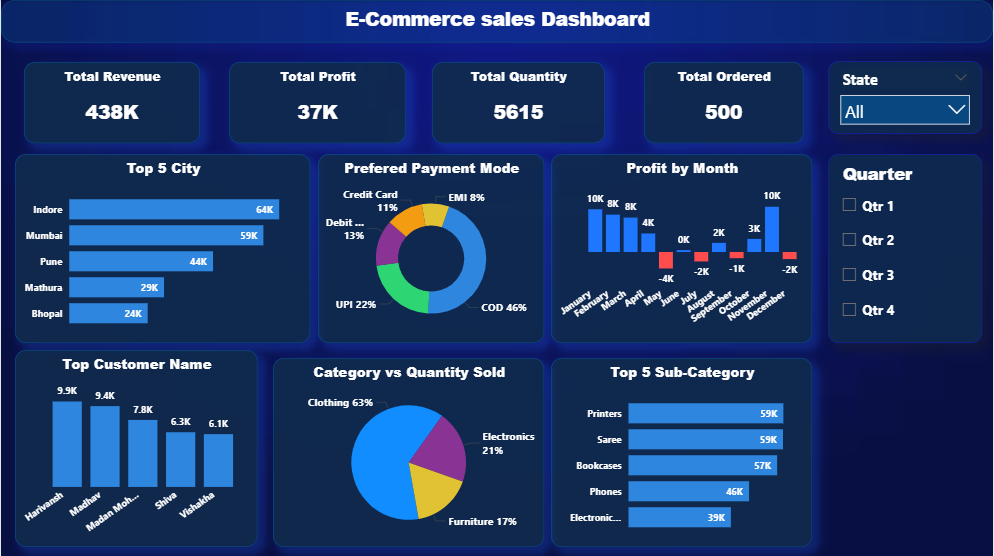

What the dashboard file says about the page in this screenshot:
{"tool":"powerbi","page":{"name":"Page 1","canvas":[1280,720],"ordinal":0},"visuals":[{"type":"clusteredColumnChart","title":" Profit by Month","fields":{"Category":["Orders1.Order Date.Variation.Date Hierarchy.Month"],"Y":["Details.Profit"]},"box":[710.1,198.4,337.3,243.8],"z":0},{"type":"barChart","title":"Top 5 Sub-Category","fields":{"Category":["Details.Sub-Category"],"Y":["Details.Amount"]},"box":[710.1,462,337.3,243.8],"z":1000},{"type":"donutChart","title":"Prefered Payment Mode","fields":{"Category":["Details.PaymentMode"],"Y":["Details.Order ID"]},"box":[409.6,198.4,292,243.8],"z":2000},{"type":"barChart","title":"Top 5 City","fields":{"Category":["Orders1.City"],"Y":["Details.Amount"]},"box":[18.4,198.4,381.3,243.8],"z":3000},{"type":"pieChart","title":" Category vs Quantity Sold","fields":{"Category":["Details.Category"],"Y":["Details.Quantity"]},"box":[351.5,462,350.1,243.8],"z":4000},{"type":"textbox","title":"E-Commerce sales Dashboard","box":[0,0,1279.8,55.3],"z":5000},{"type":"card","title":"Total Revenue","fields":{"Values":["Details.Amount"]},"box":[29.8,79.4,226.8,104.9],"z":6000},{"type":"card","title":"Total Profit","fields":{"Values":["Details.Profit"]},"box":[294.8,79.4,228.2,104.9],"z":7000},{"type":"card","title":"Total Quantity","fields":{"Values":["Details.Quantity"]},"box":[555.6,79.4,222.5,104.9],"z":8000},{"type":"card","title":"Total Ordered","fields":{"Values":["Details.Order ID"]},"box":[829.1,79.4,205.5,104.9],"z":9000},{"type":"clusteredColumnChart","title":"Top  Customer Name","fields":{"Category":["Orders1.CustomerName"],"Y":["Details.Amount"]},"box":[18.4,452.1,313.2,253.7],"z":10000},{"type":"slicer","fields":{"Values":["Orders1.State"]},"box":[1067.6,78.9,198.6,94.4],"z":11000},{"type":"slicer","fields":{"Values":["Orders1.Order Date.Variation.Date Hierarchy.Quarter"]},"box":[1067.6,198.6,198.6,243.7],"z":12000}]}

Visuals, with their boxes in screenshot pixels (x1, y1, x2, y2), scaled from the page's 1280x720 canvas onto the 994x556 screenshot:
" Profit by Month" clusteredColumnChart: 551 153 813 341
"Top 5 Sub-Category" barChart: 551 357 813 545
"Prefered Payment Mode" donutChart: 318 153 545 341
"Top 5 City" barChart: 14 153 310 341
" Category vs Quantity Sold" pieChart: 273 357 545 545
"E-Commerce sales Dashboard" textbox: 0 0 993 43
"Total Revenue" card: 23 61 199 142
"Total Profit" card: 229 61 406 142
"Total Quantity" card: 431 61 604 142
"Total Ordered" card: 644 61 803 142
"Top  Customer Name" clusteredColumnChart: 14 349 258 545
slicer - Orders1.State: 829 61 983 134
slicer - Orders1.Order Date.Variation.Date Hierarchy.Quarter: 829 153 983 342
